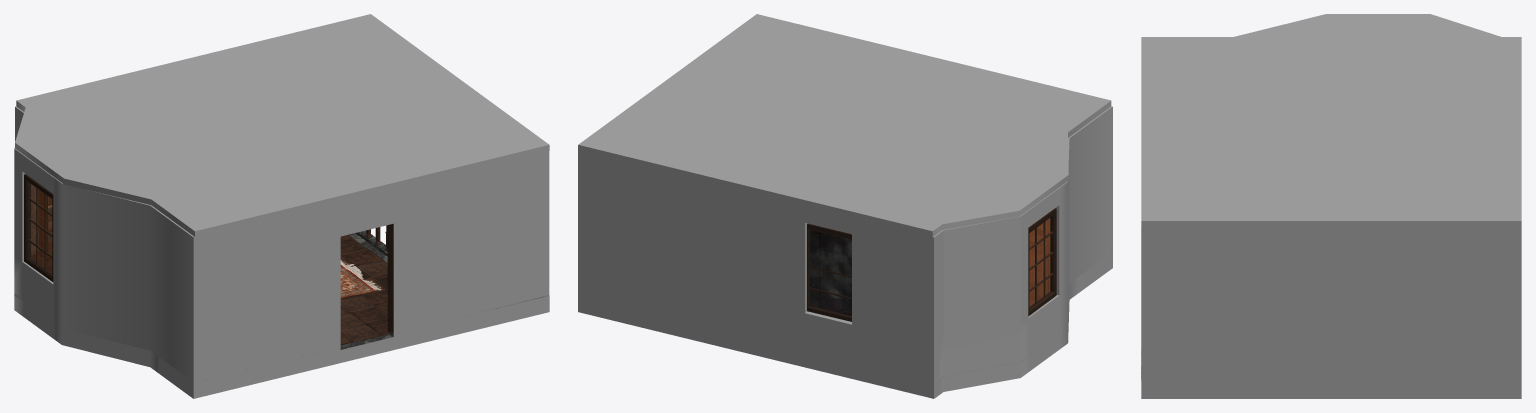
File: Office_first_floor.fbx
3 renders of one model, left to right at view 1: azimuth 30°, elevation 25°; view 2: azimuth 150°, elevation 25°; view 3: azimuth 270°, elevation 25°, orthographic. The views are drawn at different scales.
Visible parts, largest first — view 1: walls, ceiling, floor1, parquete_right, curtains:pPlane6, pCube10, pPlane1, thin_bookstand:Furniture1:bookcase_base2, door_frame; view 2: walls, ceiling, floor1, OfficeBase:pPlane1, curtains:pPlane6, pCube10, OfficeBase:pCube10, parquete_right1; view 3: ceiling, walls, floor1.
Part boxes in pixels (x1,y1,x2,y2): walls: (14, 106, 549, 382); ceiling: (15, 14, 549, 236); floor1: (14, 230, 549, 398); parquete_right: (340, 234, 389, 342); curtains:pPlane6: (31, 184, 52, 272); pCube10: (24, 174, 53, 281); pPlane1: (340, 260, 381, 298); thin_bookstand:Furniture1:bookcase_base2: (38, 190, 51, 260); door_frame: (387, 224, 391, 333); walls: (578, 106, 1112, 382); ceiling: (578, 14, 1111, 236); floor1: (578, 252, 1112, 398); OfficeBase:pPlane1: (810, 230, 851, 315); curtains:pPlane6: (1029, 218, 1050, 306); pCube10: (1028, 208, 1056, 316); OfficeBase:pCube10: (807, 223, 851, 321); parquete_right1: (1029, 243, 1042, 306); ceiling: (1141, 14, 1521, 227); walls: (1141, 227, 1521, 381); floor1: (1141, 348, 1521, 398).
Size of the model in its own units: 68.68 by 27.49 by 53.21.
